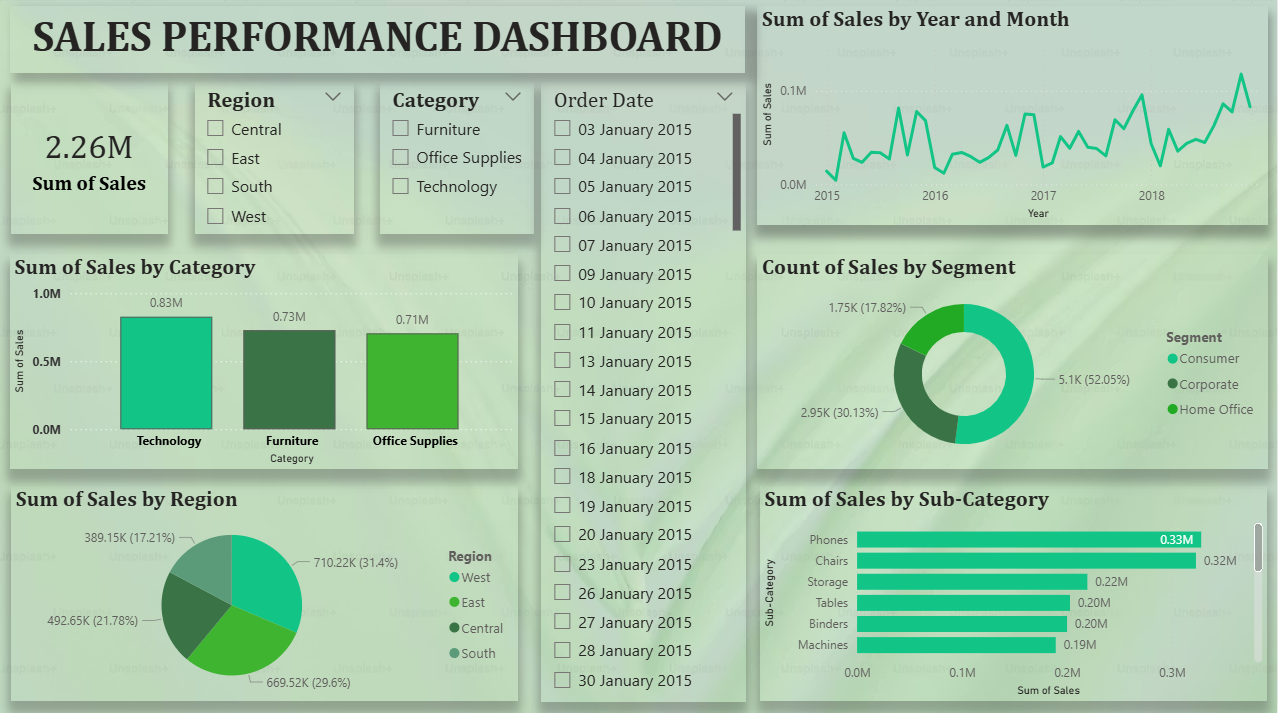

The page's visual inventory and layout, read from the dashboard file:
{"tool":"powerbi","page":{"name":"Dashboard","canvas":[1280,720],"ordinal":0},"visuals":[{"type":"clusteredColumnChart","fields":{"Y":["Sum(supermarket.Sales)"],"Category":["supermarket.Category"]},"box":[12.5,261.2,508.8,215],"z":0},{"type":"lineChart","title":"Sum of Sales by Year and Month","fields":{"Category":["supermarket.Order Date.Variation.Date Hierarchy.Year","supermarket.Order Date.Variation.Date Hierarchy.Month"],"Y":["Sum(supermarket.Sales)"]},"box":[760.1,12.4,511.3,218.9],"z":1000},{"type":"clusteredBarChart","fields":{"Category":["supermarket.Sub-Category"],"Y":["Sum(supermarket.Sales)"]},"box":[762,492,508,216],"z":2000},{"type":"donutChart","fields":{"Category":["supermarket.Segment"],"Y":["CountNonNull(supermarket.Sales)"]},"box":[760.1,261.2,511.3,215.2],"z":3000},{"type":"card","fields":{"Values":["Sum(supermarket.Sales)"]},"box":[13.5,88.3,157.1,152.1],"z":4000},{"type":"pieChart","fields":{"Category":["supermarket.Region"],"Y":["Sum(supermarket.Sales)"]},"box":[13.8,492.5,507.5,215],"z":5000},{"type":"slicer","fields":{"Values":["supermarket.Region"]},"box":[197.5,88.3,159.5,152.1],"z":6000},{"type":"slicer","fields":{"Values":["supermarket.Order Date"]},"box":[543.6,88.3,204.9,619.6],"z":7000},{"type":"slicer","fields":{"Values":["supermarket.Category"]},"box":[382.8,88.3,154.6,152.1],"z":8000},{"type":"textbox","box":[12.3,12.3,736.2,67.5],"z":9000}]}

Visuals, with their boxes in screenshot pixels (x1, y1, x2, y2), scaled from the page's 1280x720 canvas onto the 1278x713 screenshot:
clusteredColumnChart - Sum(supermarket.Sales) x supermarket.Category: {"left": 12, "top": 259, "right": 520, "bottom": 472}
"Sum of Sales by Year and Month" lineChart: {"left": 759, "top": 12, "right": 1269, "bottom": 229}
clusteredBarChart - supermarket.Sub-Category x Sum(supermarket.Sales): {"left": 761, "top": 487, "right": 1268, "bottom": 701}
donutChart - supermarket.Segment x CountNonNull(supermarket.Sales): {"left": 759, "top": 259, "right": 1269, "bottom": 472}
card - Sum(supermarket.Sales): {"left": 13, "top": 87, "right": 170, "bottom": 238}
pieChart - supermarket.Region x Sum(supermarket.Sales): {"left": 14, "top": 488, "right": 520, "bottom": 701}
slicer - supermarket.Region: {"left": 197, "top": 87, "right": 356, "bottom": 238}
slicer - supermarket.Order Date: {"left": 543, "top": 87, "right": 747, "bottom": 701}
slicer - supermarket.Category: {"left": 382, "top": 87, "right": 537, "bottom": 238}
textbox: {"left": 12, "top": 12, "right": 747, "bottom": 79}
